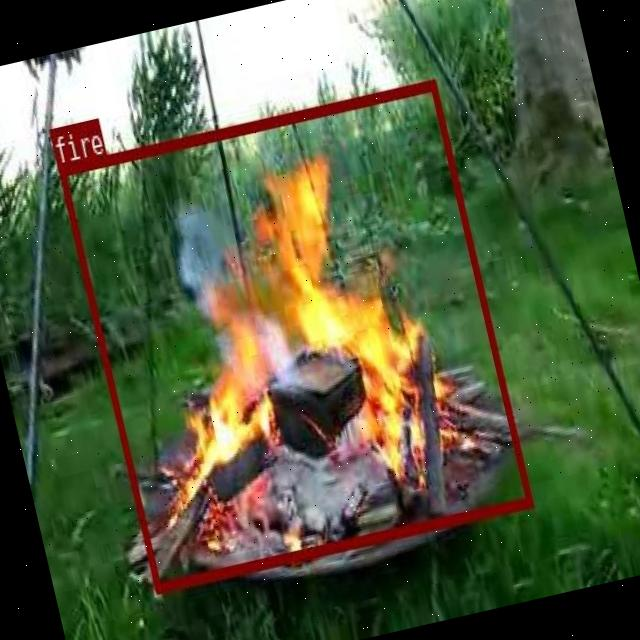fire: (56, 77, 532, 590)
